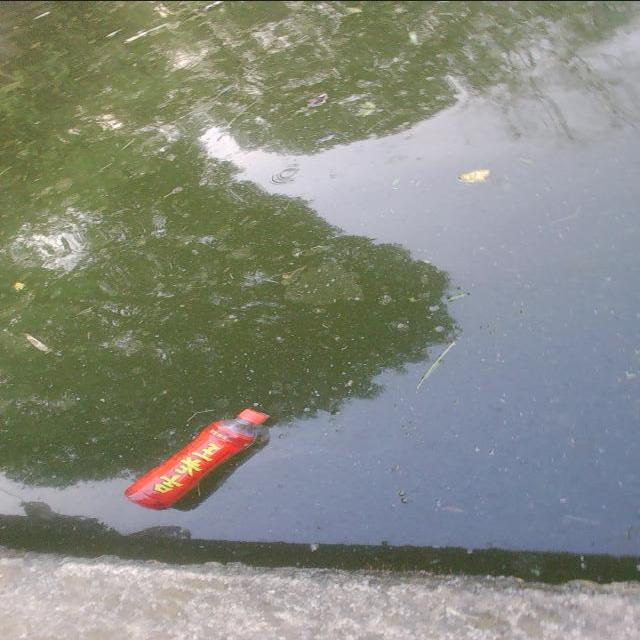bottle: (111, 390, 278, 531)
